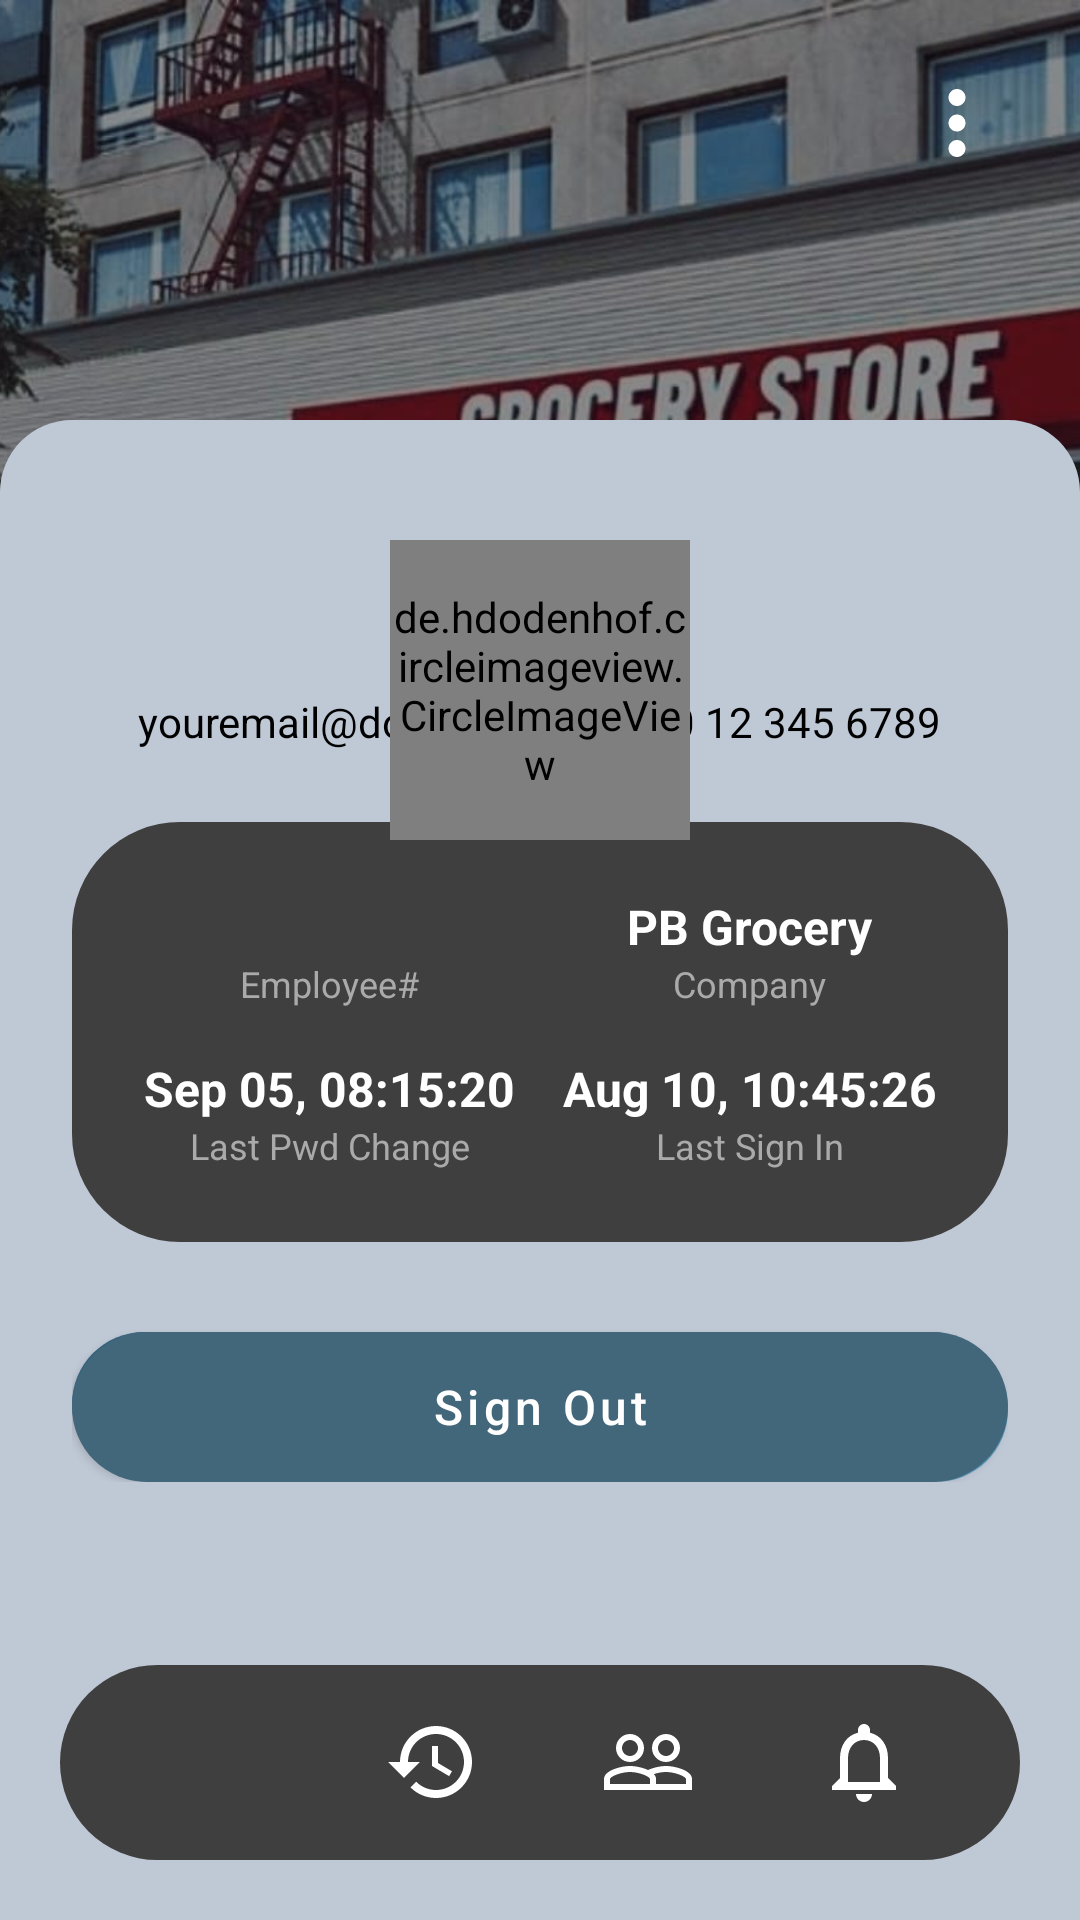

Where to tap for icons on this 1080 x 1920 app screen, as [x,y]:
history: [430,1762]
notifications none: [864,1763]
people: [648,1762]
